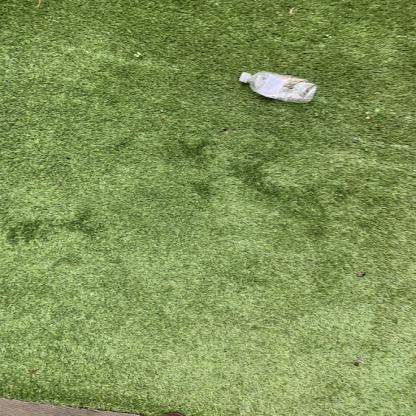trash: (235, 70, 323, 107)
